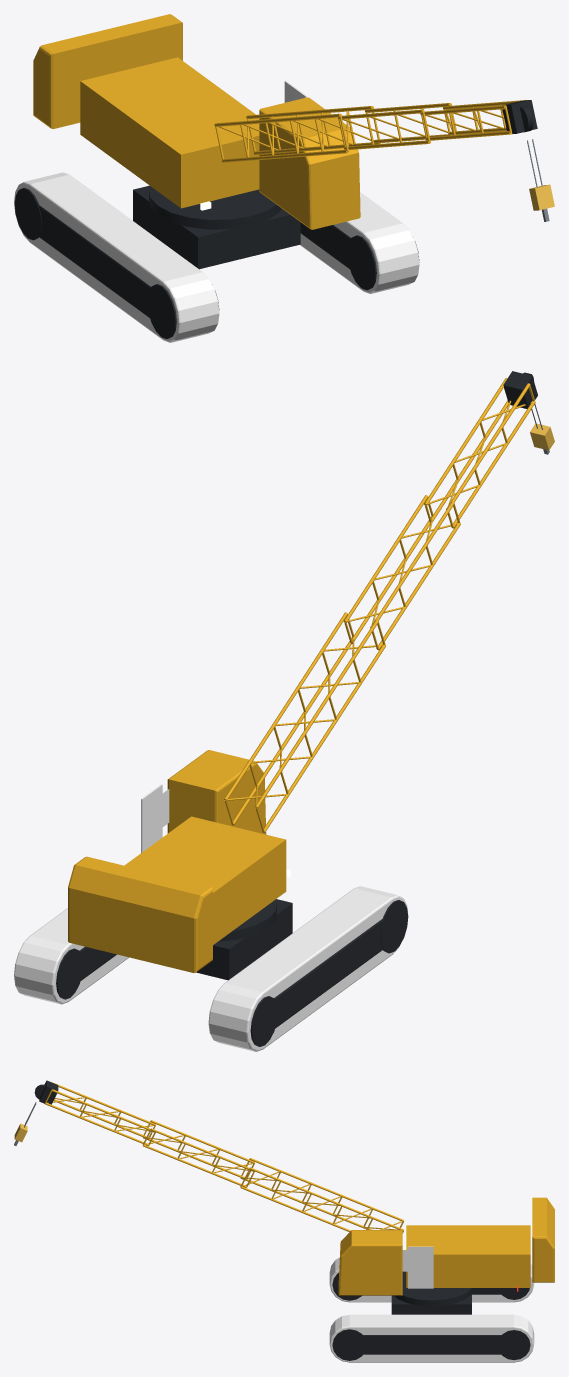
File: equipment--crawlerCrane.glb
The picture shows the model from 3 angles, top to bottom: view 1: azimuth 30°, elevation 25°; view 2: azimuth 150°, elevation 25°; view 3: azimuth 270°, elevation 25°; orthographic projection. The views are drawn at different scales.
Parts seen in each view (by area): view 1: house, trackR, crawlerCrane:shell, counterweight, trackL, boom, boomSection2, boomSection3, boomHead, hook; view 2: house, trackR, counterweight, trackL, boom, crawlerCrane:shell, boomSection2, boomSection3, cabDoor, boomHead; view 3: house, trackL, boom, crawlerCrane:shell, counterweight, boomSection2, trackR, boomSection3, cabDoor, boomHead.
Part boxes in pixels (x1,y1,x2,y2): house: (80, 57, 360, 229); trackR: (14, 172, 219, 342); crawlerCrane:shell: (133, 185, 300, 269); counterweight: (33, 14, 182, 128); trackL: (300, 192, 419, 293); boom: (214, 106, 381, 162); boomSection2: (337, 103, 456, 149); boomSection3: (420, 100, 527, 140); boomHead: (502, 100, 537, 134); hook: (527, 139, 554, 221); house: (124, 750, 286, 944); trackR: (208, 886, 408, 1051); counterweight: (68, 856, 212, 972); trackL: (14, 908, 128, 1004); boom: (224, 612, 385, 832); crawlerCrane:shell: (196, 899, 292, 980); boomSection2: (343, 495, 460, 650); boomSection3: (424, 378, 535, 528); cabDoor: (141, 784, 162, 852); boomHead: (503, 371, 537, 408); house: (338, 1225, 530, 1295); trackL: (329, 1314, 534, 1362); boom: (240, 1158, 403, 1233); crawlerCrane:shell: (391, 1271, 473, 1314); counterweight: (532, 1197, 554, 1282); boomSection2: (142, 1120, 254, 1187); trackR: (329, 1257, 534, 1302); boomSection3: (45, 1082, 155, 1145); cabDoor: (408, 1246, 433, 1288); boomHead: (34, 1080, 58, 1104).
Bounding box in the file's own units: 4.76 × 7.28 × 14.81.
